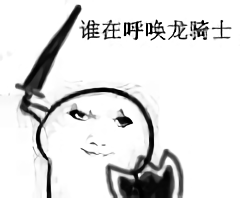dragon: (67, 106, 134, 159)
